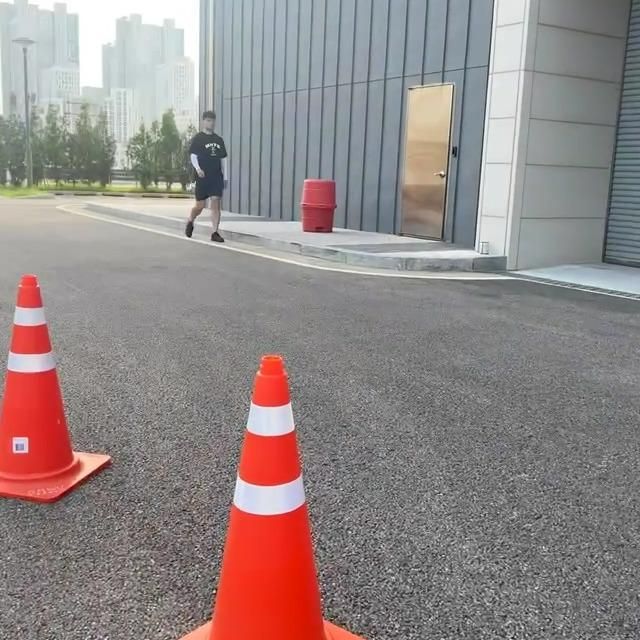fallen_object: (142, 286, 371, 640), (0, 247, 97, 557)
